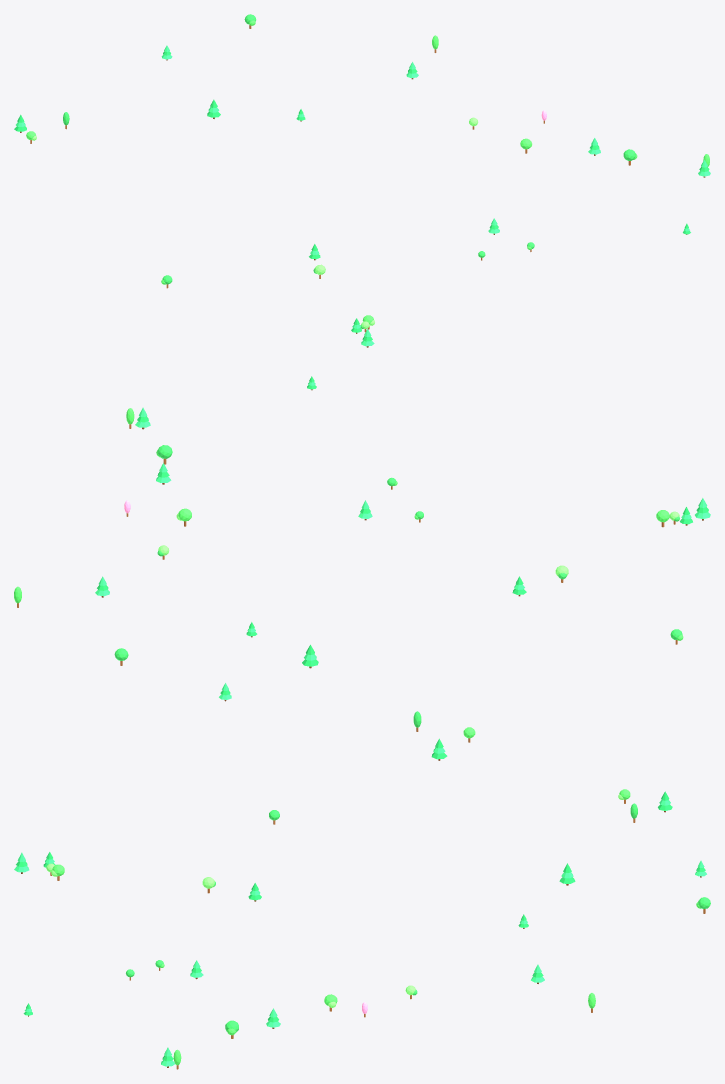
File: course_trees_1.glb
3 renders of one model, top to bottom at view 1: azimuth 30°, elevation 25°; view 2: azimuth 150°, elevation 25°; view 3: azimuth 270°, elevation 25°, orthographic. The views are drawn at different scales.
Visible parts, largest first — view 1: course_trees_1; view 2: course_trees_1; view 3: course_trees_1.
Part boxes in pixels (left/top/right/bottom): course_trees_1: left=14, top=14, right=710, bottom=347; course_trees_1: left=14, top=376, right=710, bottom=760; course_trees_1: left=14, top=789, right=710, bottom=1069.
Size of the model in its own units: 221 by 28.53 by 232.
1 material, 1 textured.
